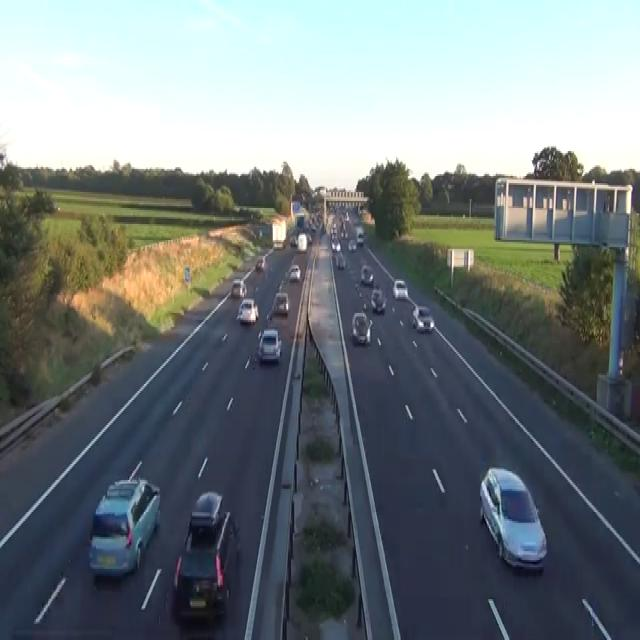Car: (280, 491, 367, 638), (87, 460, 160, 580), (172, 492, 239, 622), (478, 466, 547, 570), (173, 546, 229, 622), (189, 489, 224, 535), (257, 327, 282, 363), (351, 311, 372, 345), (412, 304, 434, 332), (236, 297, 259, 323), (370, 288, 386, 313), (272, 292, 289, 314), (392, 279, 408, 299), (231, 277, 247, 297), (360, 263, 373, 285), (288, 263, 301, 281), (289, 228, 301, 247), (297, 233, 307, 251), (335, 252, 345, 268), (255, 256, 265, 270), (356, 228, 364, 245), (272, 238, 284, 249), (331, 238, 341, 251), (258, 226, 268, 238), (347, 238, 356, 251), (277, 278, 285, 292), (354, 283, 362, 297), (289, 235, 298, 247), (51, 201, 60, 211), (266, 308, 273, 320), (331, 222, 337, 236), (309, 222, 316, 231), (306, 233, 312, 243), (258, 228, 263, 236)
Truck: (271, 219, 286, 249)
